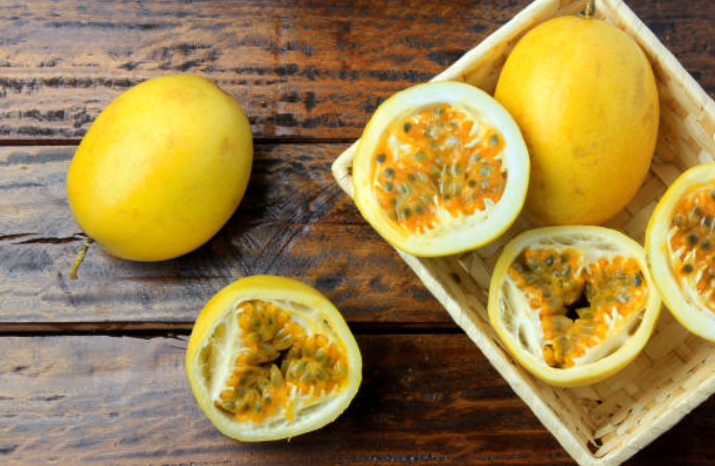maracuya: (60, 71, 261, 270), (488, 11, 665, 235)
